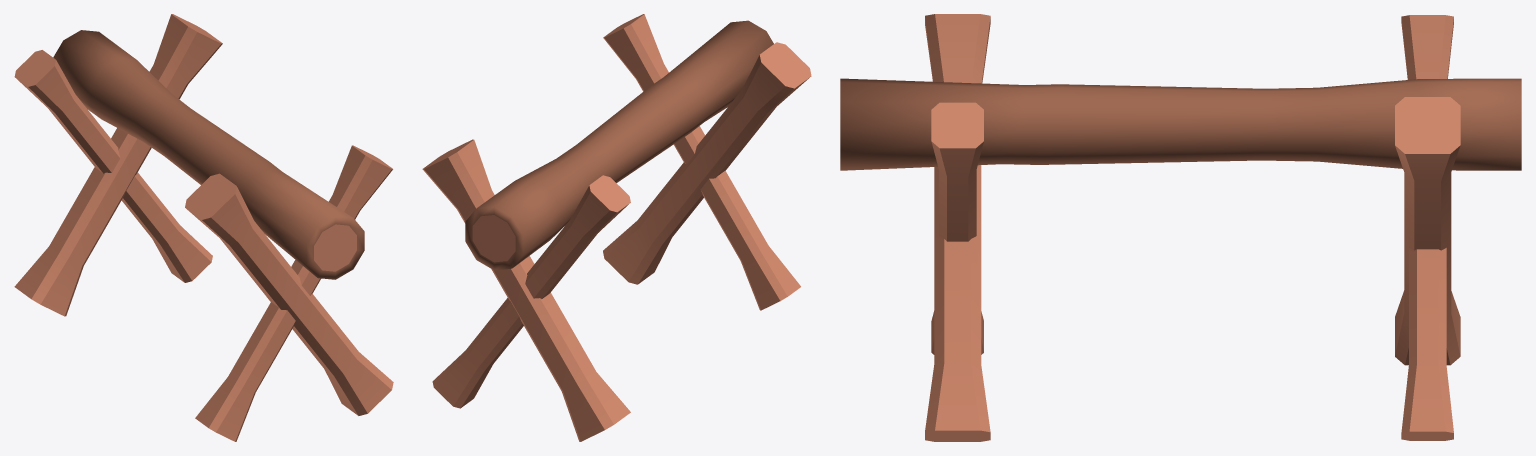
File: LumberingStationLvl1.fbx
3 views of the same model, side by side, from view 1: azimuth 30°, elevation 25°; view 2: azimuth 150°, elevation 25°; view 3: azimuth 270°, elevation 25° (orthographic). The views are drawn at different scales.
Visible parts, largest first — view 1: Cylinder, Cube.002, Cube.001; view 2: Cylinder, Cube.001, Cube.002; view 3: Cylinder, Cube.002, Cube.001.
Part boxes in pixels (x1=…): Cylinder: x1=53, y1=30, x2=364, y2=279; Cube.002: x1=14, y1=14, x2=222, y2=316; Cube.001: x1=185, y1=145, x2=393, y2=441; Cylinder: x1=465, y1=20, x2=773, y2=270; Cube.001: x1=603, y1=14, x2=811, y2=310; Cube.002: x1=422, y1=139, x2=630, y2=441; Cylinder: x1=840, y1=78, x2=1521, y2=170; Cube.002: x1=1395, y1=15, x2=1460, y2=440; Cube.001: x1=925, y1=14, x2=990, y2=441.
Size of the model in its own units: 129 by 164 by 290.
